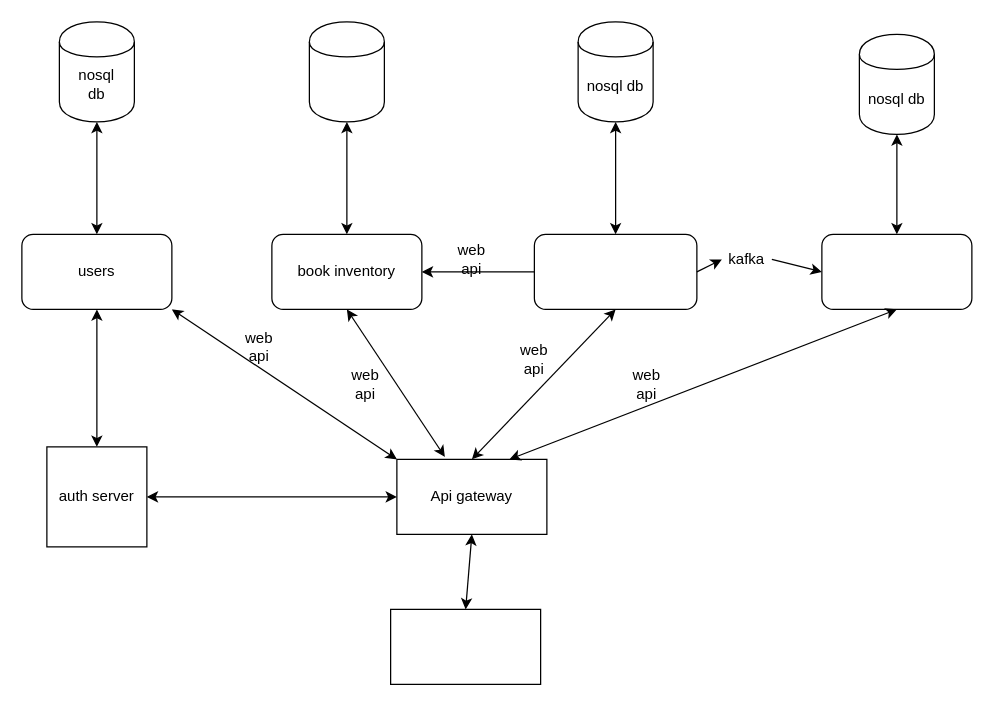
The diagram is 994 pixels wide and 706 high, and some of its shapes have lost their labels. The centre of each missing label's shape, as x and y in pixels:
FE: point (465, 646)
order and payment: point (615, 271)
order and payment history: point (896, 271)
sql db: point (346, 71)
